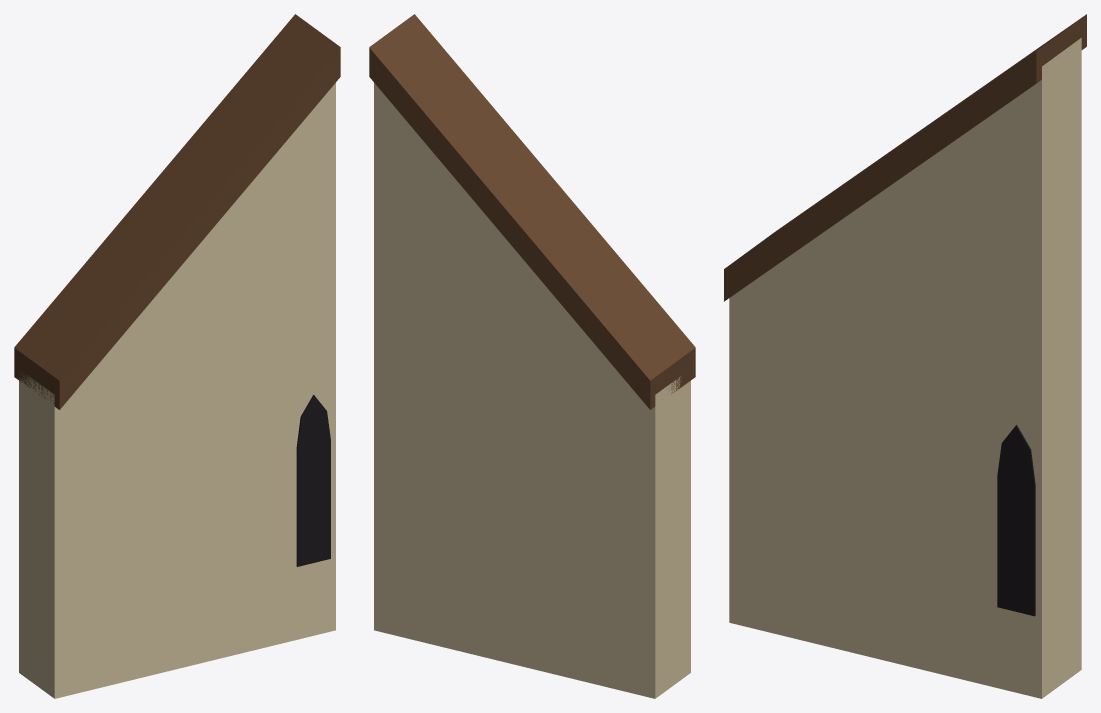
Rendered from Gable1Slit.fbx.
The picture shows the model from 3 angles, left to right: view 1: azimuth 30°, elevation 25°; view 2: azimuth 150°, elevation 25°; view 3: azimuth 330°, elevation 25°; orthographic projection. The views are drawn at different scales.
Parts seen in each view (by area): view 1: Kit_Gable1Slit; view 2: Kit_Gable1Slit; view 3: Kit_Gable1Slit.
Boxes of the visible parts, x1=… form: Kit_Gable1Slit: x1=14, y1=14, x2=340, y2=698; Kit_Gable1Slit: x1=369, y1=14, x2=695, y2=698; Kit_Gable1Slit: x1=724, y1=14, x2=1086, y2=698.
Bounding box in the file's own units: 1 × 1.99 × 0.28.
